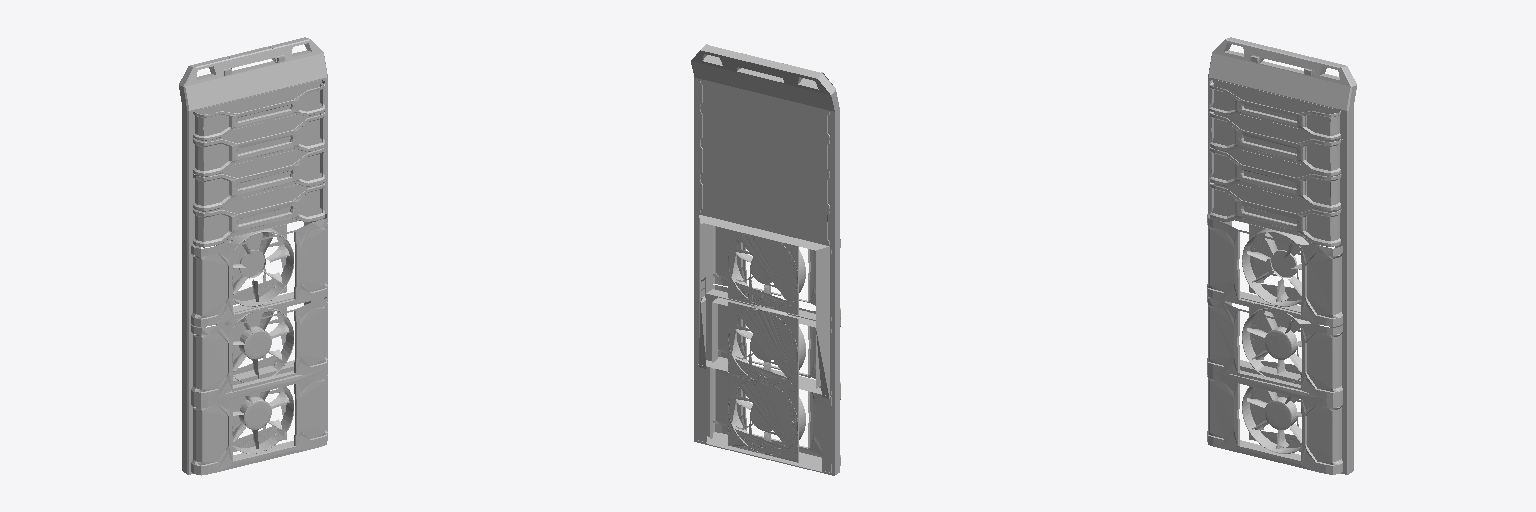
The model's file is panel.obj.
3 views of the same model, side by side, from view 1: azimuth 30°, elevation 25°; view 2: azimuth 150°, elevation 25°; view 3: azimuth 330°, elevation 25° (orthographic).
Visible parts, largest first — view 1: Plane.003_Plane.005; view 2: Plane.003_Plane.005; view 3: Plane.003_Plane.005.
Boxes of the visible parts, box(x1,y1,x2,y2) form: Plane.003_Plane.005: box(179, 37, 327, 475); Plane.003_Plane.005: box(691, 44, 840, 475); Plane.003_Plane.005: box(1207, 37, 1356, 474).
Bounding box in the file's own units: 0.889 × 2.42 × 0.221.